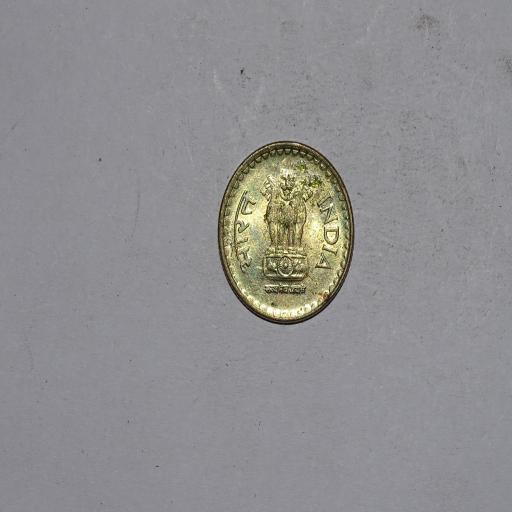rupee5: (211, 140, 356, 331)
